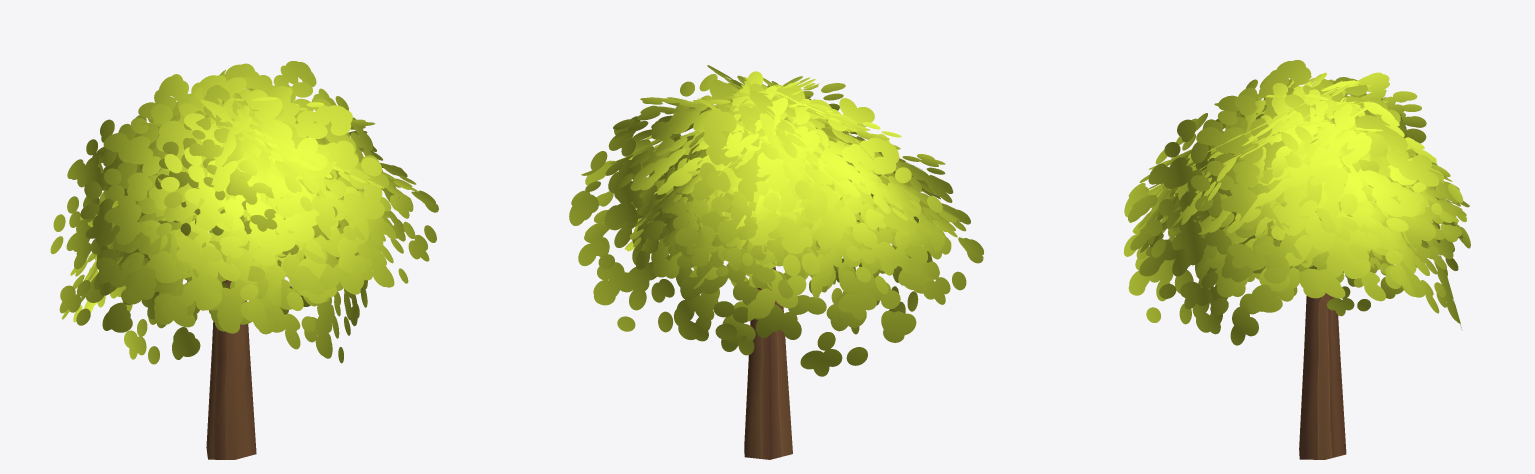
Rendered from t-bush5-n.glb.
The picture shows the model from 3 angles, left to right: view 1: azimuth 30°, elevation 25°; view 2: azimuth 150°, elevation 25°; view 3: azimuth 270°, elevation 25°; orthographic projection.
Visible parts, largest first — view 1: T_bush5_N; view 2: T_bush5_N; view 3: T_bush5_N.
Part boxes in pixels (x1,y1,x2,y2): T_bush5_N: [50, 61, 438, 459]; T_bush5_N: [569, 65, 983, 459]; T_bush5_N: [1123, 60, 1470, 459].
Size of what is drawn, in the model's own units: 6.72 by 5.91 by 5.93.
2 materials, 2 textured.
